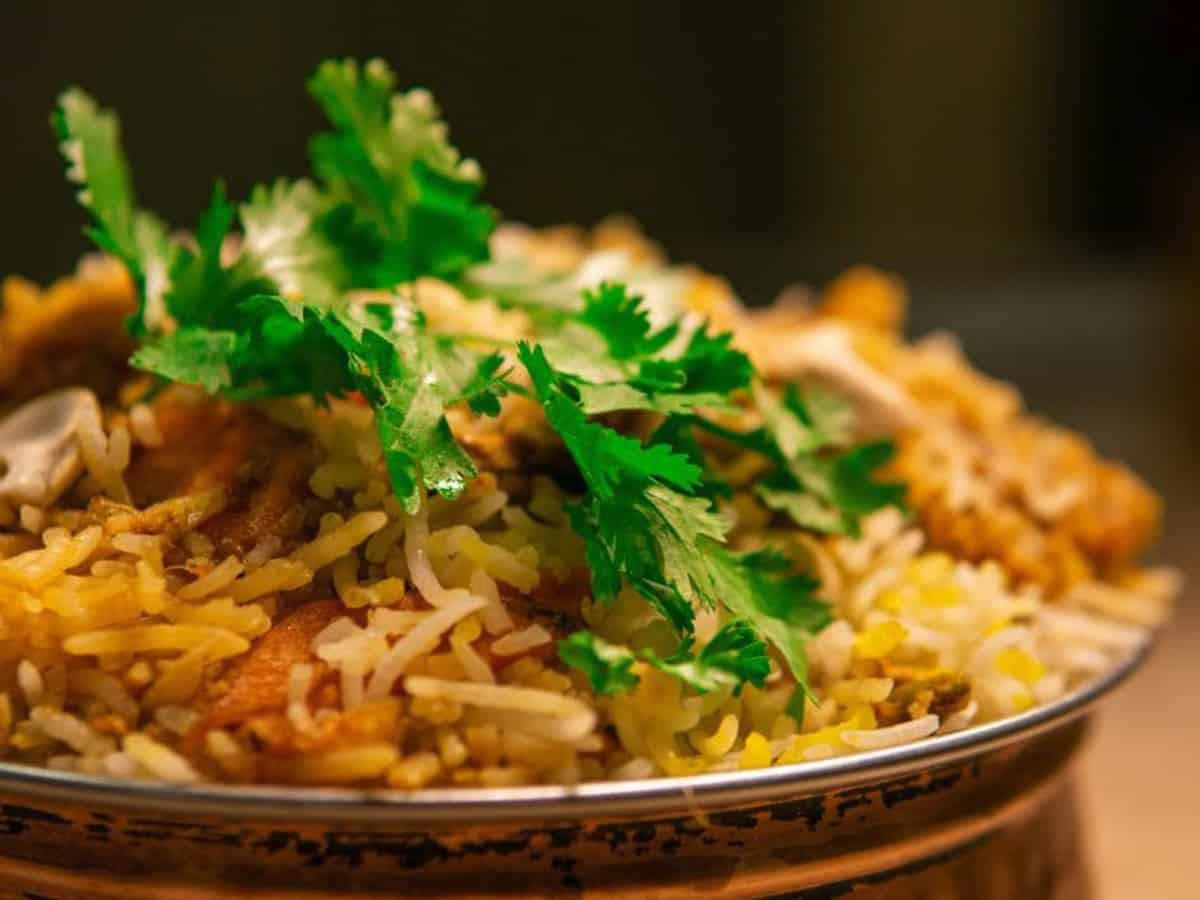Biryani: (0, 48, 1180, 788)
